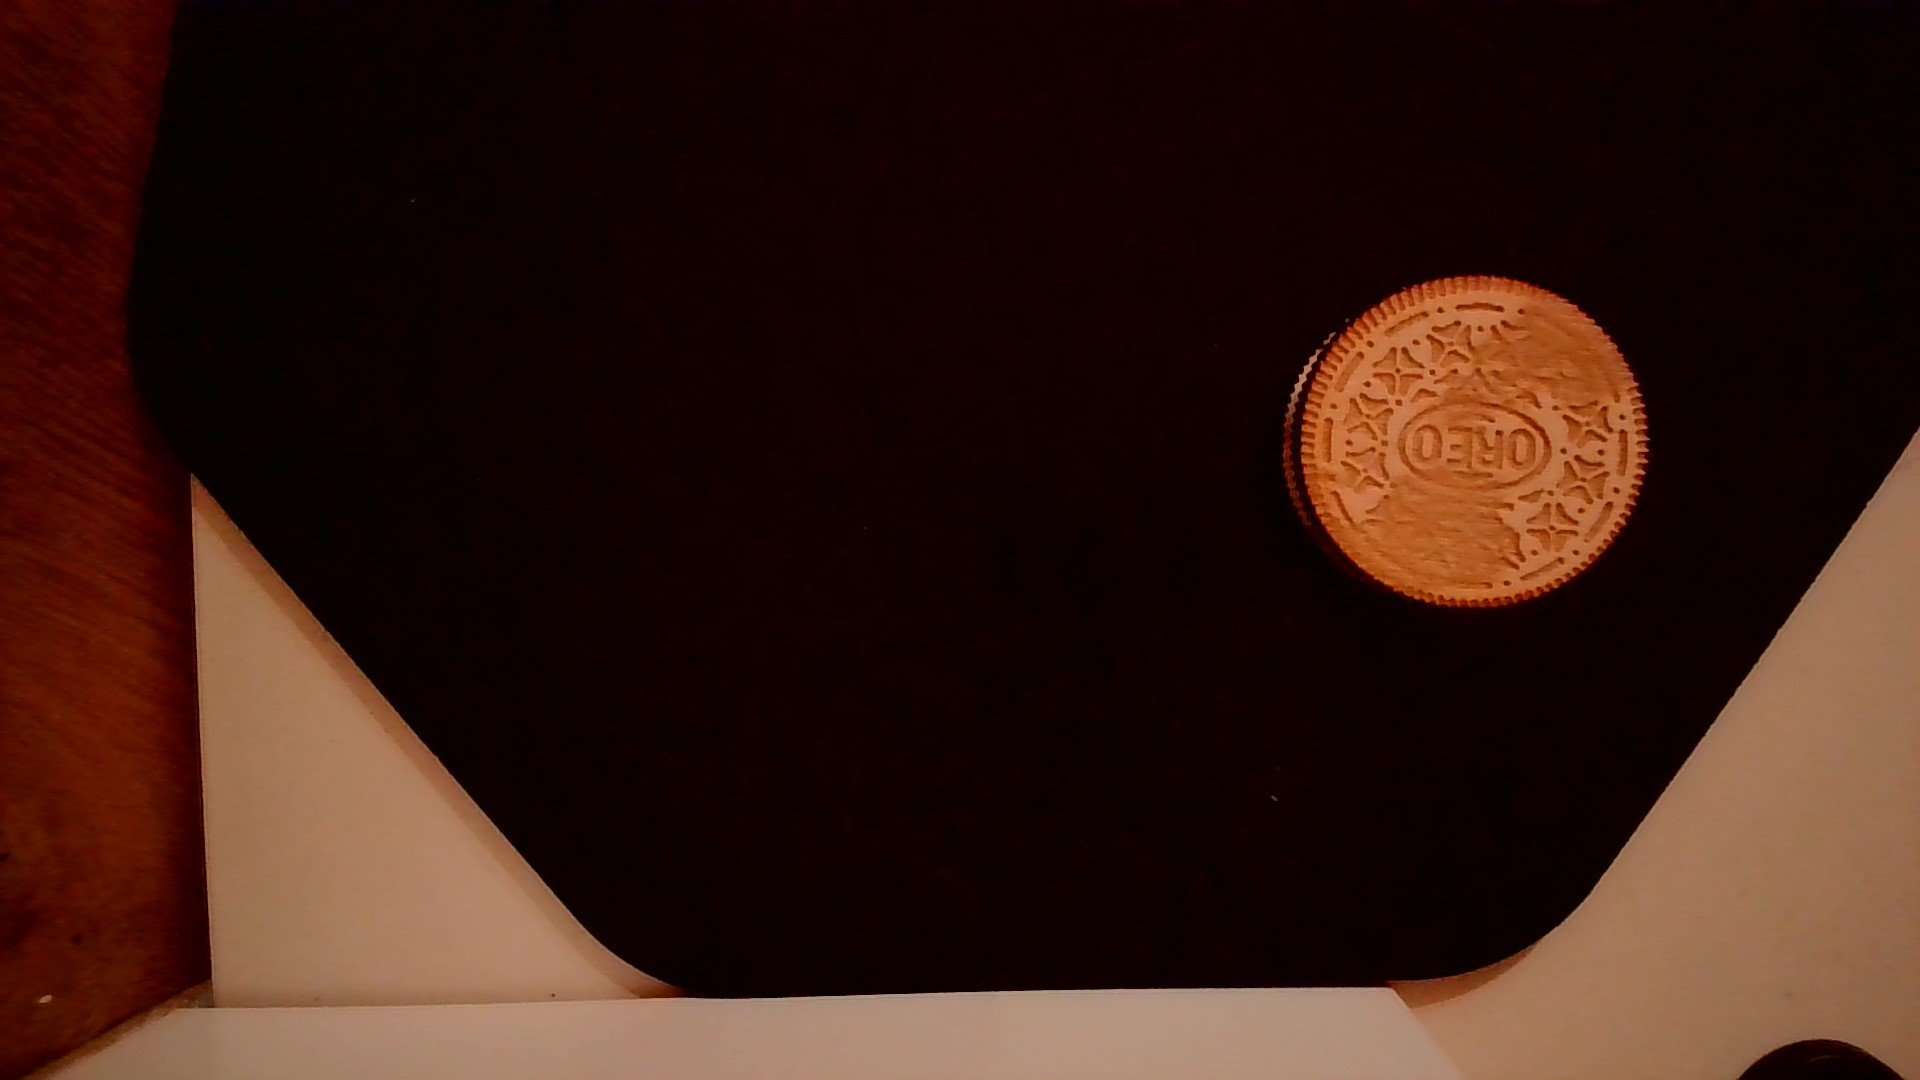Effacé: (1346, 462, 1520, 593), (1484, 282, 1636, 400)
Oréo: (1269, 268, 1658, 620)
